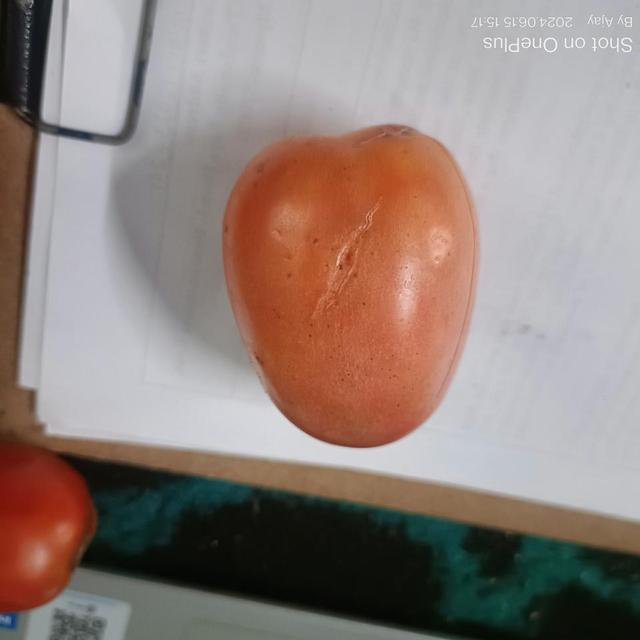Cracking Fruit: (106, 78, 319, 285)
